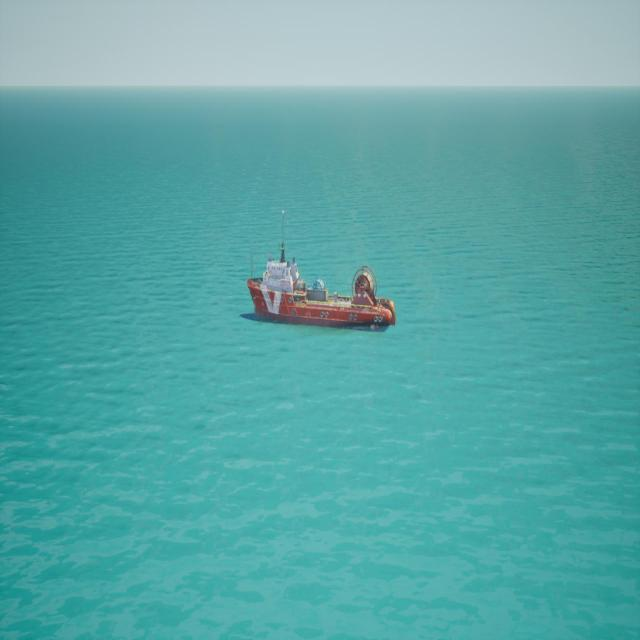tug boat: (242, 210, 398, 338)
